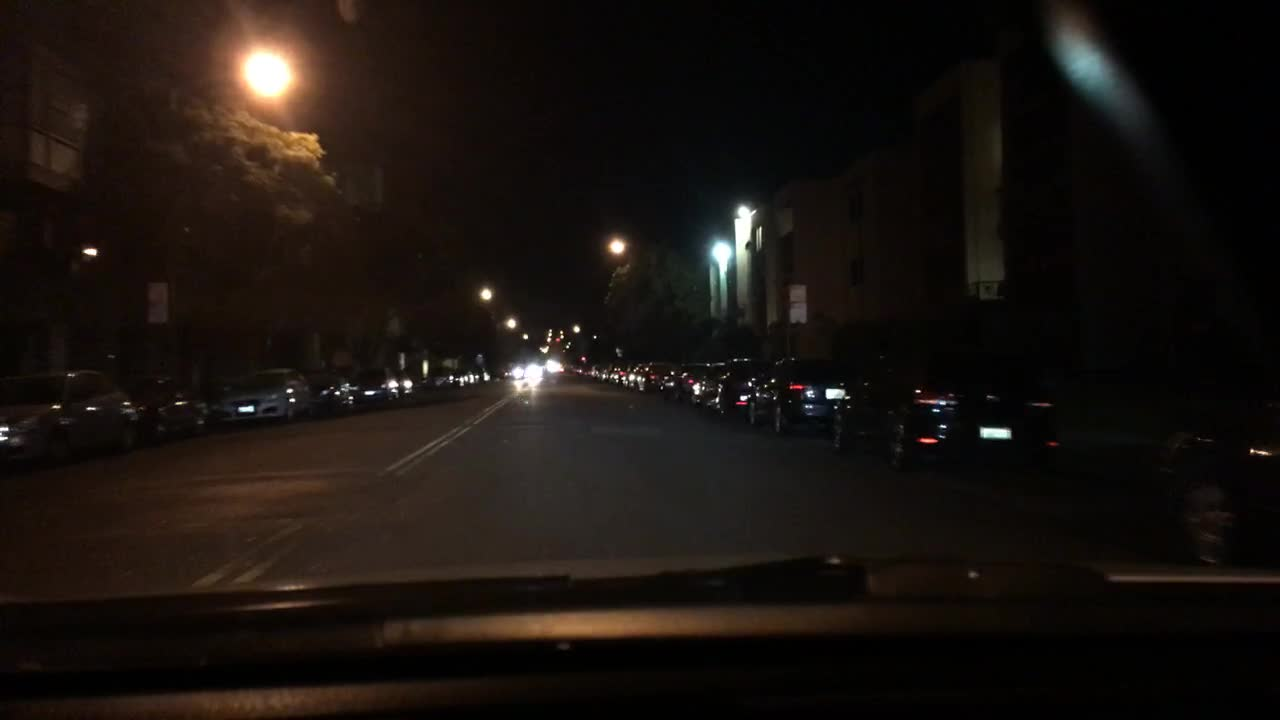car: (830, 342, 1079, 484), (1152, 391, 1279, 568), (0, 366, 141, 469), (745, 352, 875, 435), (115, 368, 209, 440), (212, 365, 317, 425), (713, 357, 777, 428), (304, 372, 355, 412), (658, 362, 710, 396), (689, 362, 729, 406), (346, 371, 394, 405), (638, 362, 676, 393), (386, 372, 414, 397), (428, 366, 453, 388), (627, 363, 646, 391), (511, 364, 538, 381), (620, 366, 634, 388), (606, 366, 622, 385), (475, 365, 491, 383), (493, 366, 514, 379), (462, 367, 475, 387), (450, 367, 463, 387), (596, 365, 609, 381), (581, 365, 593, 379), (590, 365, 600, 379), (575, 365, 584, 375)
traffic sign: (148, 280, 169, 321), (788, 284, 808, 324)
